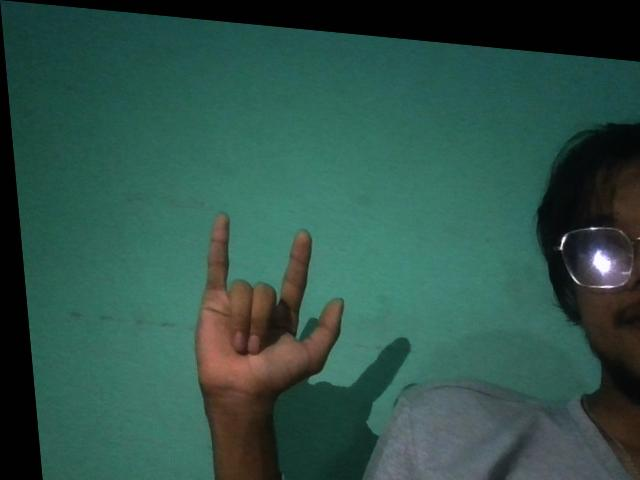I Love You: (154, 196, 359, 437)
